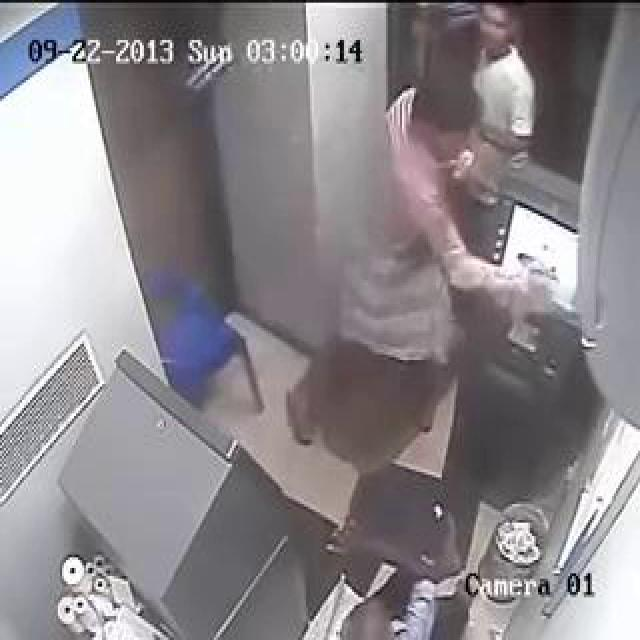shooting: (294, 41, 587, 634)
